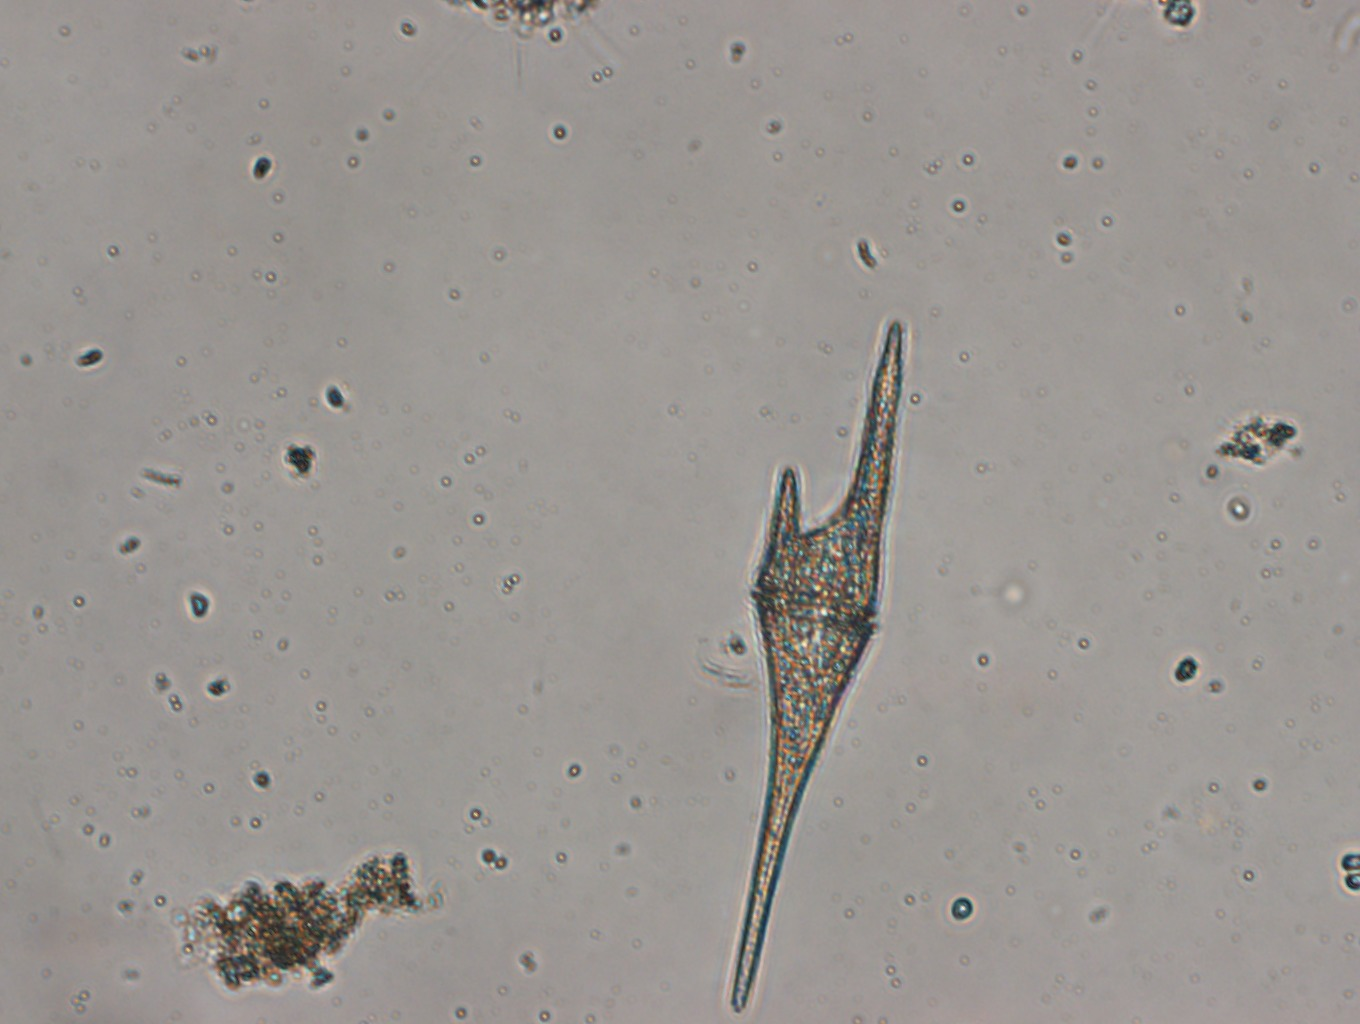ceratium furca: (730, 317, 907, 1019)
